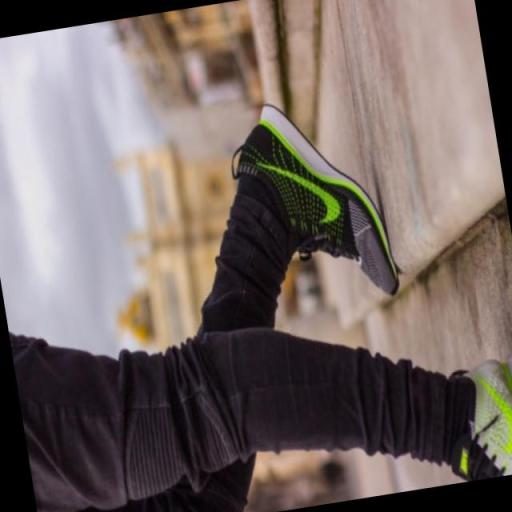Nike: (251, 139, 350, 250)
